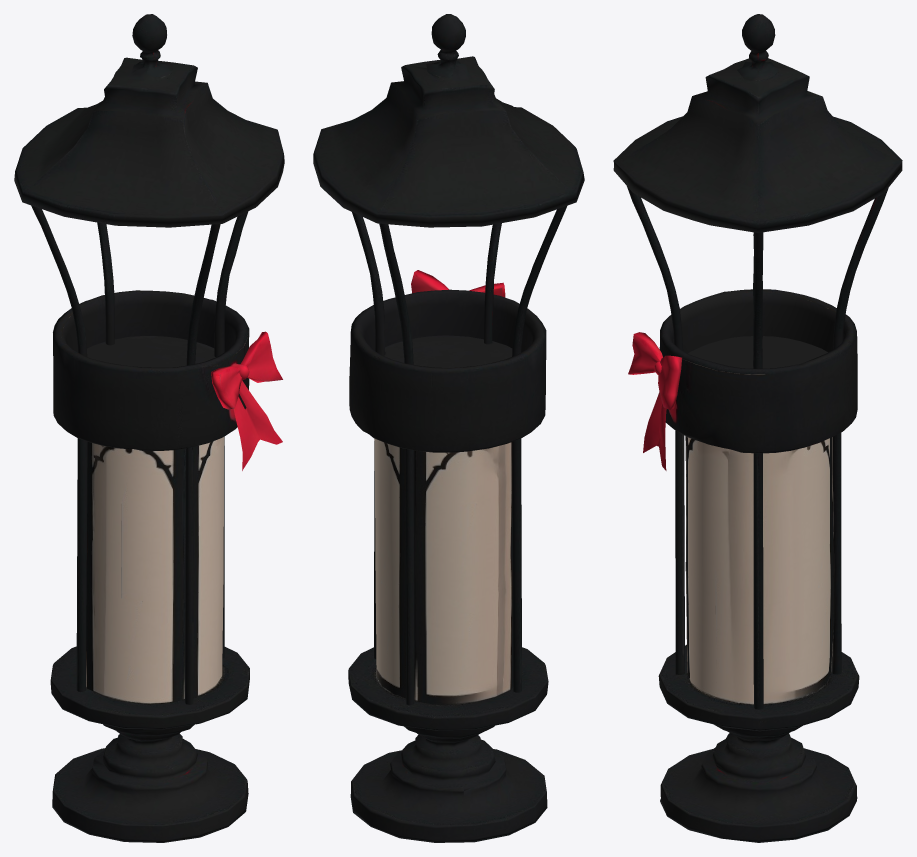
File: xmas_lantern.glb
3 views of the same model, side by side, from view 1: azimuth 30°, elevation 25°; view 2: azimuth 150°, elevation 25°; view 3: azimuth 270°, elevation 25° (orthographic).
Size of the model in its own units: 0.3404 by 1 by 0.3335.
Materials: 1 (1 with a texture image).
